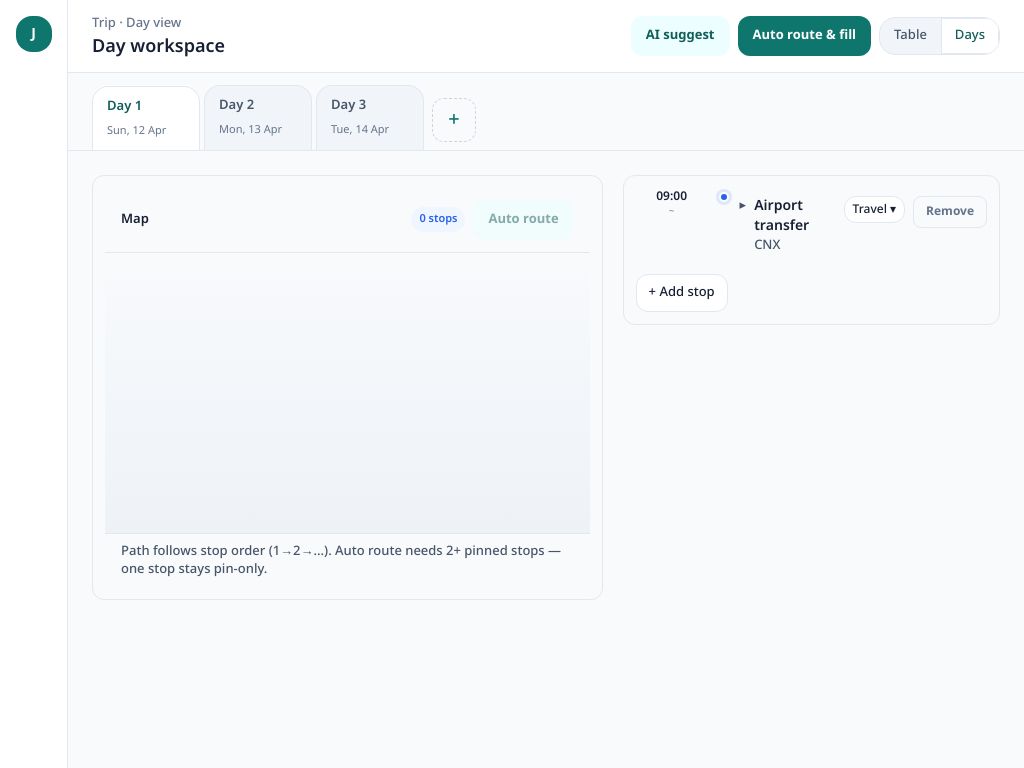
Test: DayWorkspacePage + day append › + day extends trip endDate via PATCH /api/v1/trips/{id} past the spine and activates the new Plan Day tab
Check: the number of tabs is 3, box [92, 86, 200, 150]; [204, 85, 312, 150]; [316, 85, 424, 150]
Click the button named "Add day".
click(454, 120)  # box [432, 98, 476, 142]
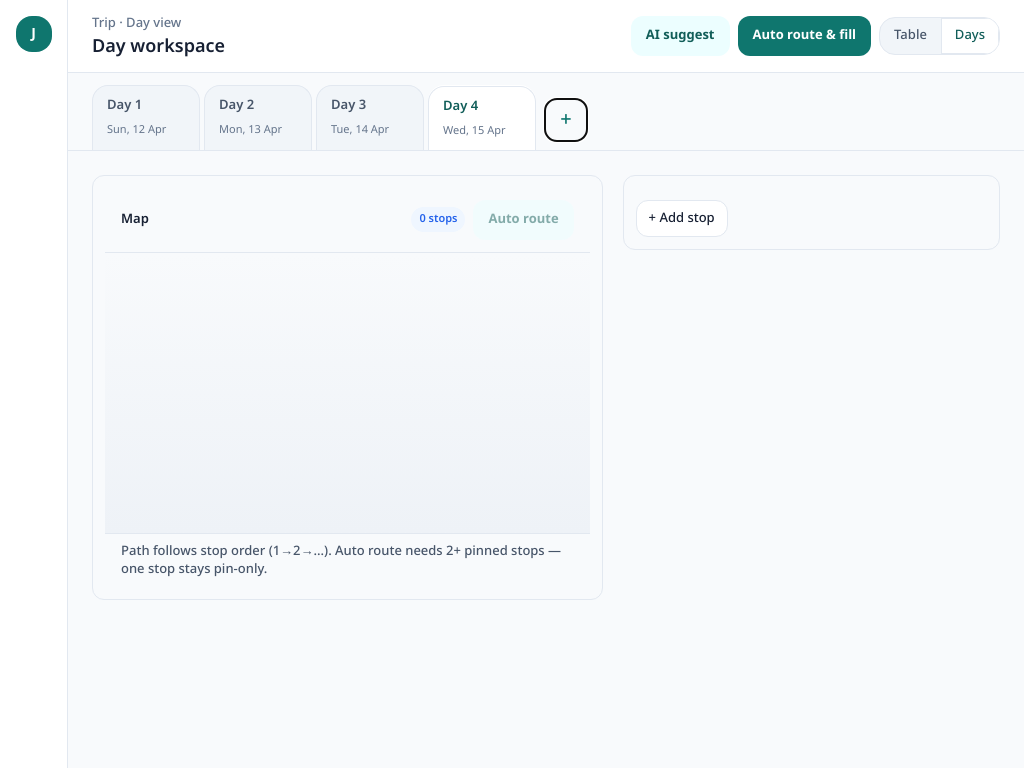
Check: the number of tabs is 4, box [92, 85, 200, 150]; [204, 85, 312, 150]; [316, 85, 424, 150]; [428, 86, 536, 150]
